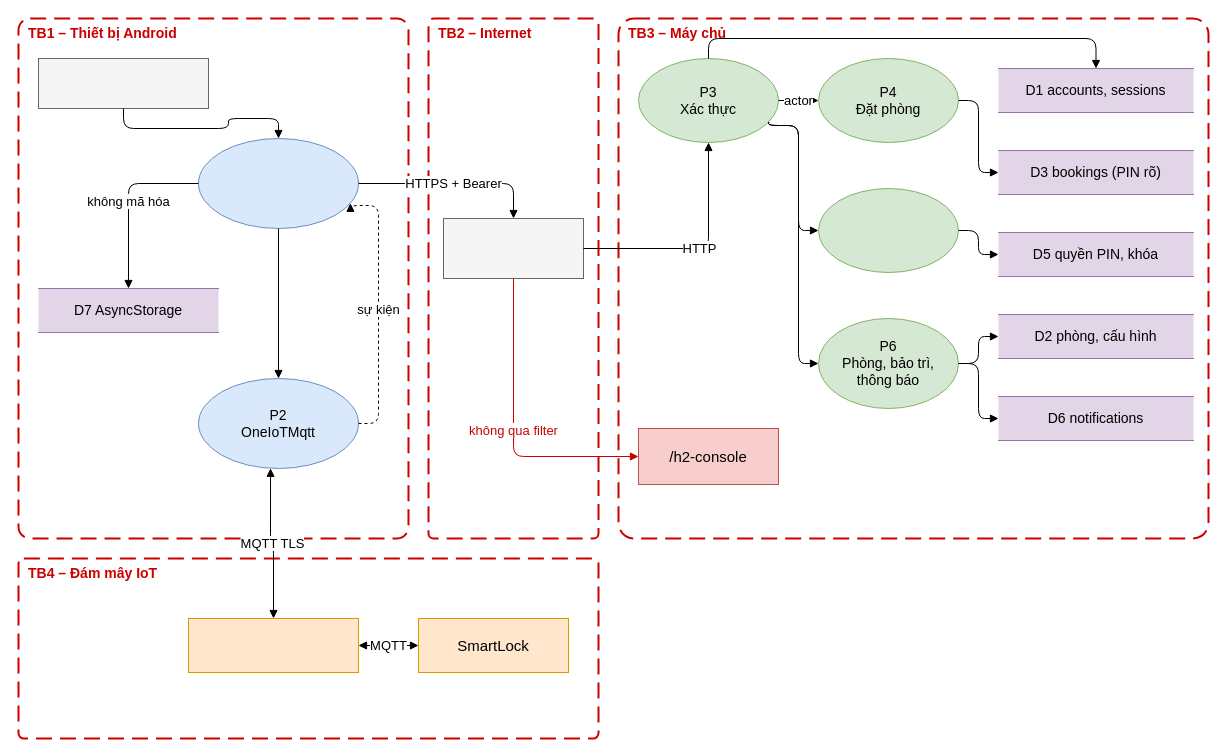
Some shapes in this 1226 by 756 pixel diagram are drawn without their labels. The shapes that lost their labels are listed below. From the top down, each one's box as (x1, y1, x2, y2) in pixels, then its label:
(38, 58, 208, 108): Người dùng / Admin
(198, 138, 358, 228): P1 Mobile App
(442, 218, 584, 278): Tunnel
(818, 188, 958, 272): P5 Quyền & PIN
(188, 618, 358, 672): OneIoT broker
